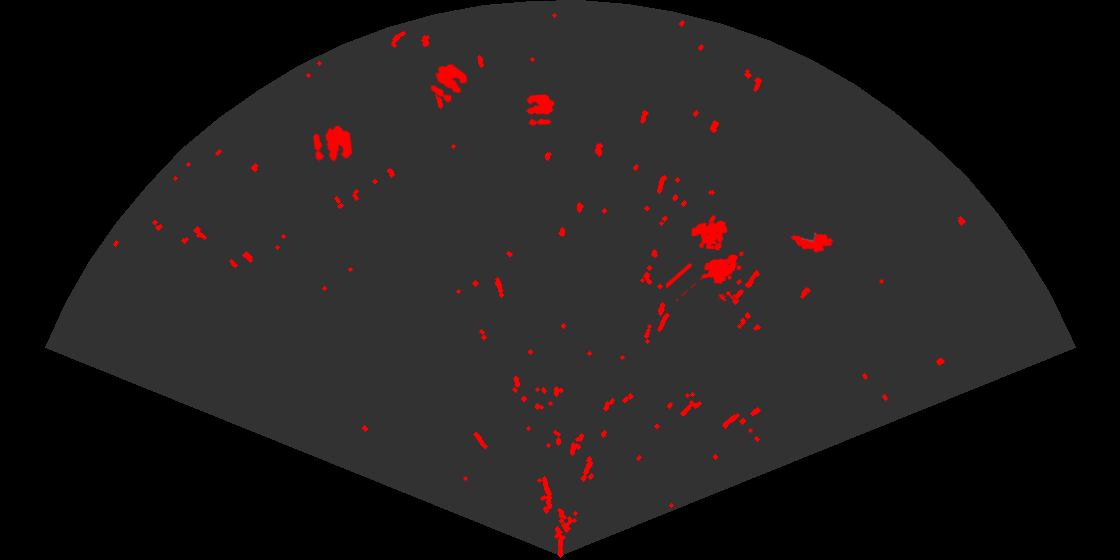AUV: (789, 231, 835, 255)
ball: (429, 62, 469, 104), (311, 124, 354, 163), (524, 93, 556, 127)
cage: (666, 219, 745, 301)
